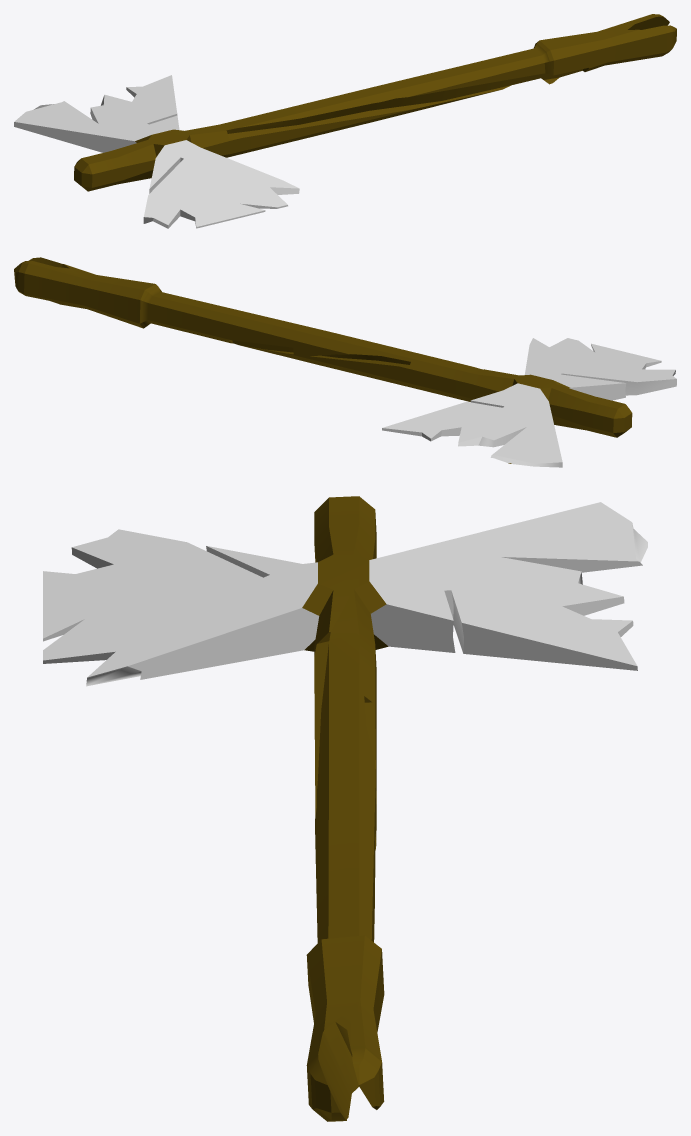
Rendered from Weapon_axe_broken.fbx.
The picture shows the model from 3 angles, top to bottom: view 1: azimuth 30°, elevation 25°; view 2: azimuth 150°, elevation 25°; view 3: azimuth 270°, elevation 25°; orthographic projection. The views are drawn at different scales.
Visible parts, largest first — view 1: polySurface9; view 2: polySurface9; view 3: polySurface9.
Boxes of the visible parts, x1,y1,x2,y2 form: polySurface9: (14, 14, 676, 228); polySurface9: (14, 257, 676, 467); polySurface9: (43, 496, 647, 1121).
Bounding box in the file's own units: 21.02 × 1.24 × 9.25.
